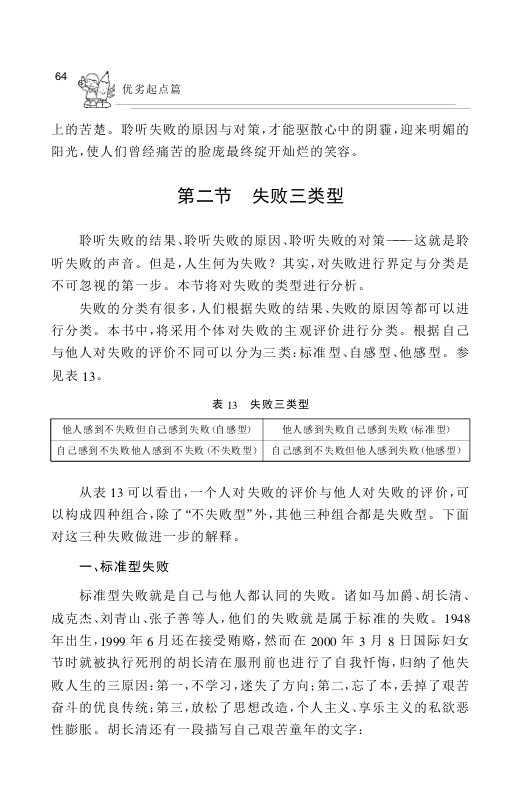table: (50, 418, 470, 461)
